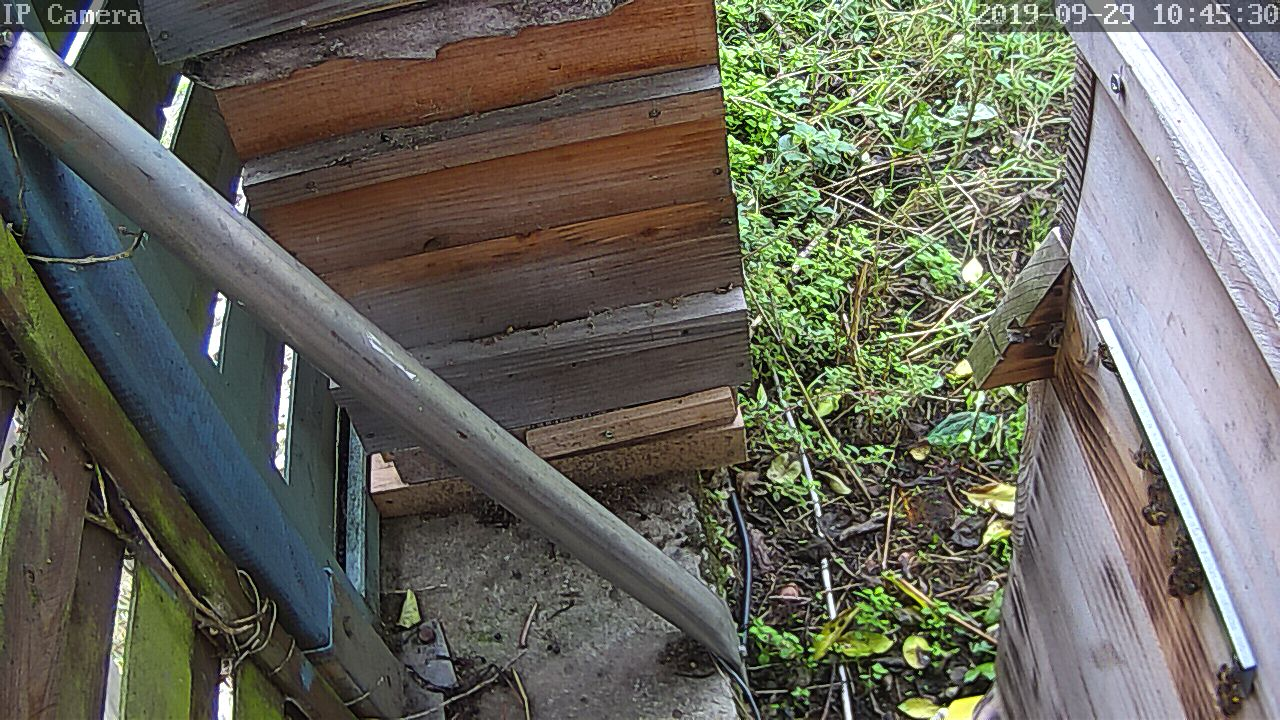bee: (1198, 657, 1260, 719), (1162, 552, 1211, 600), (1133, 486, 1185, 531), (1161, 521, 1202, 568), (1122, 439, 1163, 480), (1094, 333, 1119, 375)
